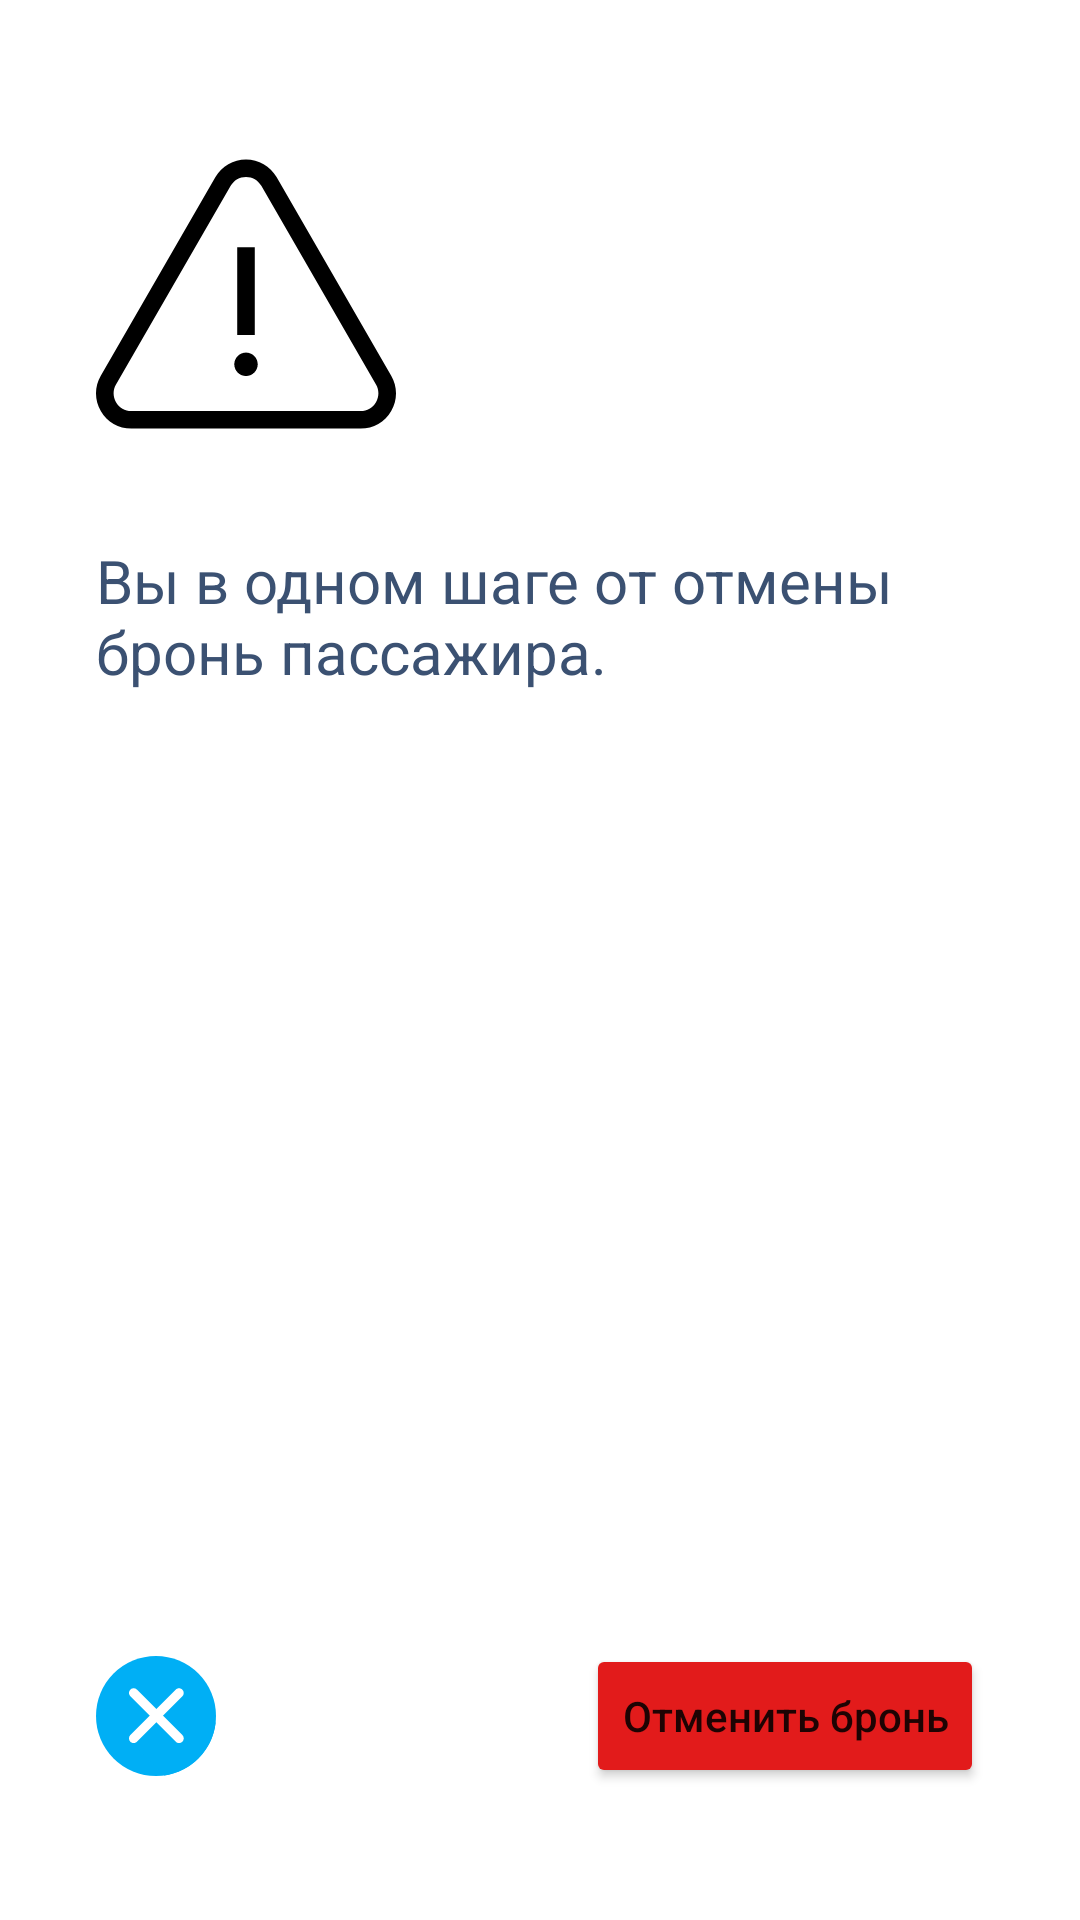

Locate icon controls on the screen. Image size 1080 x 1920, boxes as (x1, y1, x2, y2).
alert: (96, 159, 396, 429)
cancel: (96, 1656, 216, 1776)
